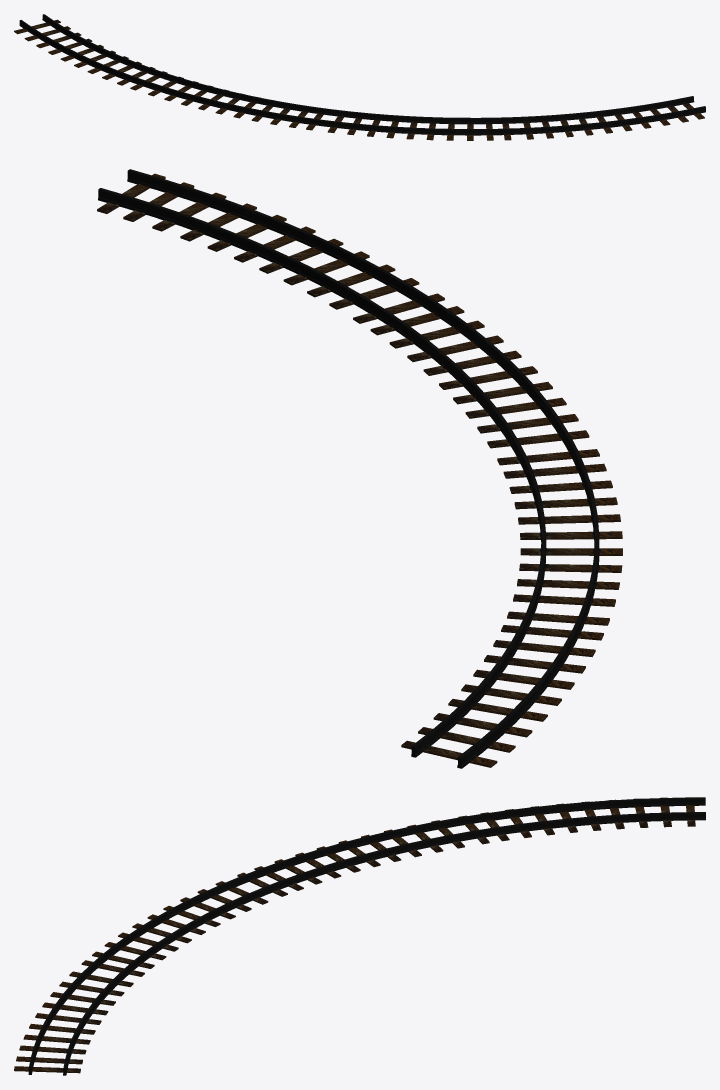
The model's file is track4.gltf.
The picture shows the model from 3 angles, top to bottom: view 1: azimuth 30°, elevation 25°; view 2: azimuth 150°, elevation 25°; view 3: azimuth 270°, elevation 25°; orthographic projection. The views are drawn at different scales.
Parts seen in each view (by area): view 1: Track_01polySurface161_lambert1_0.004; view 2: Track_01polySurface161_lambert1_0.004; view 3: Track_01polySurface161_lambert1_0.004.
Boxes of the visible parts, x1,y1,x2,y2 form: Track_01polySurface161_lambert1_0.004: (14,14,705,140); Track_01polySurface161_lambert1_0.004: (97,169,622,768); Track_01polySurface161_lambert1_0.004: (14,797,705,1075).
Bounding box in the file's own units: 395 × 5.12 × 416.
Materials: 1 (1 with a texture image).
